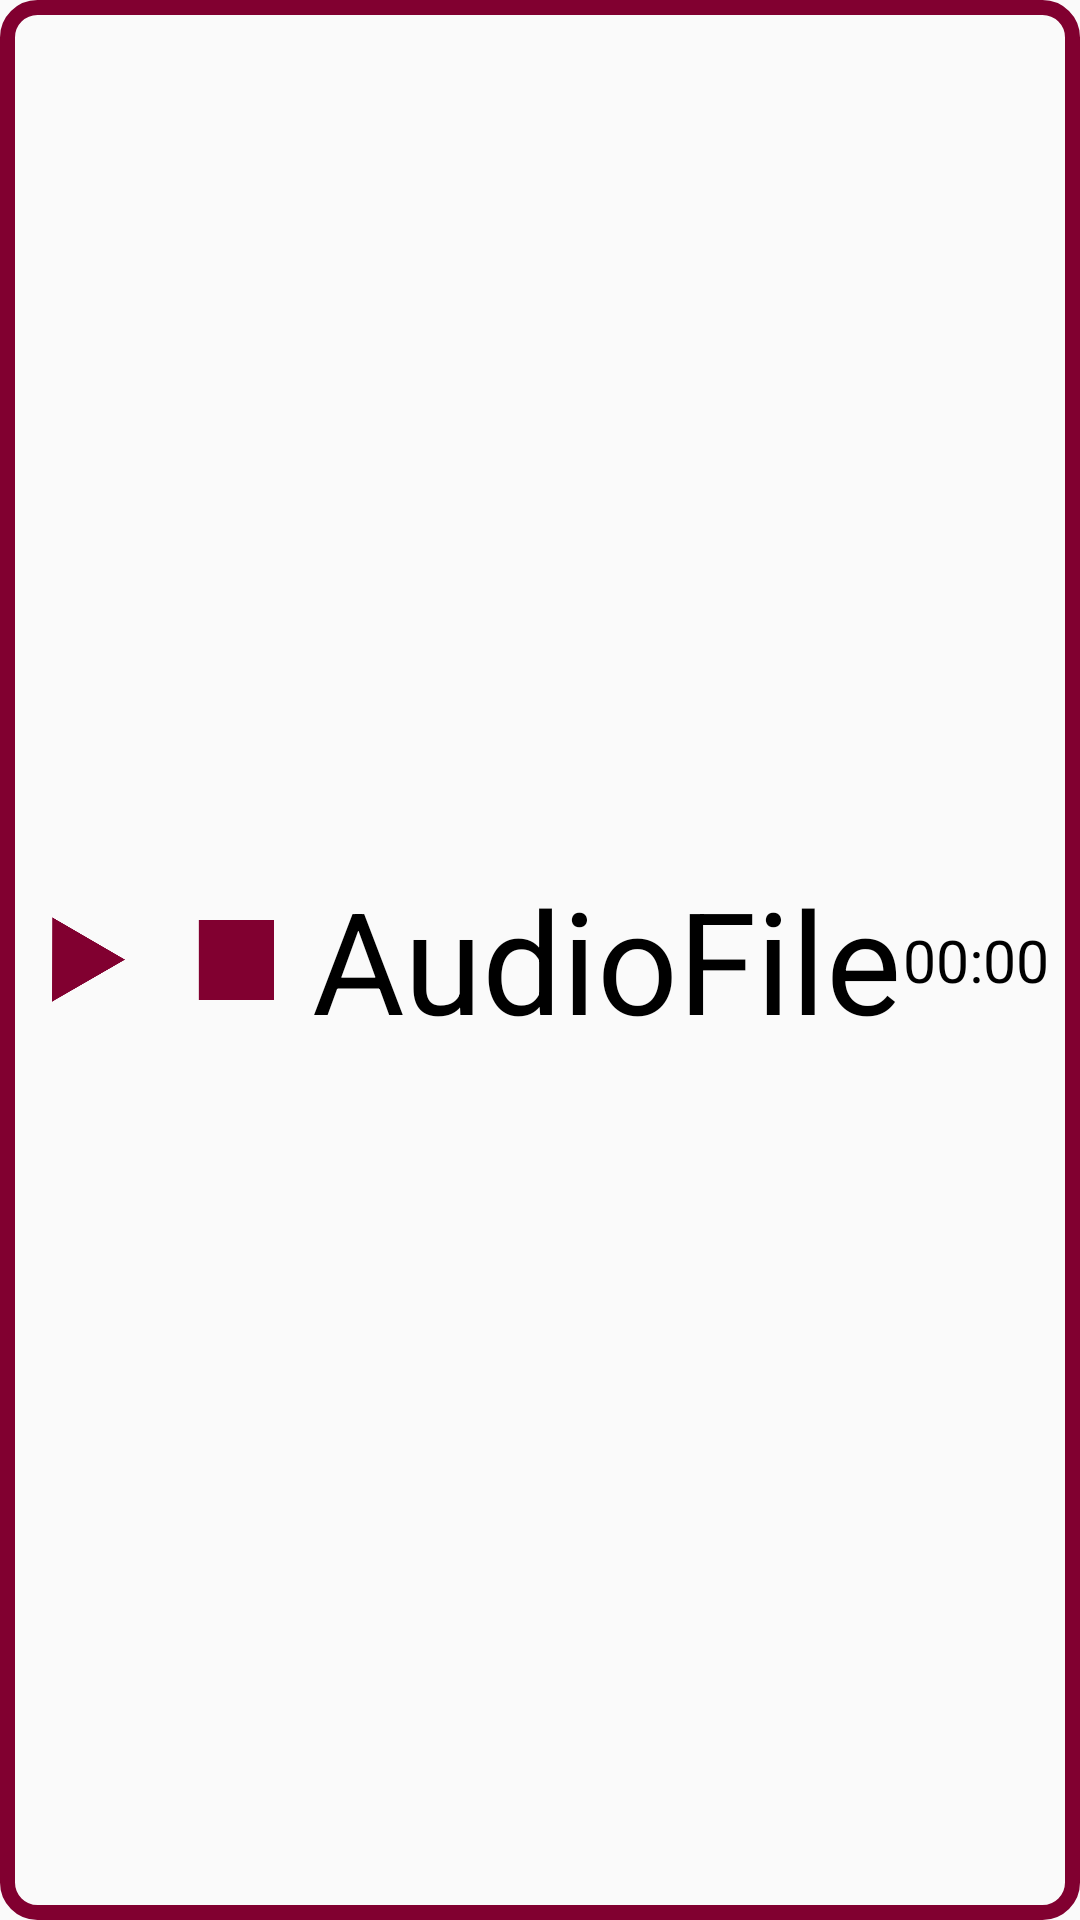

Screen size 1080x1920. Icon name, then its center in pixels as (x=x, y=y):
stop: (x=236, y=960)
